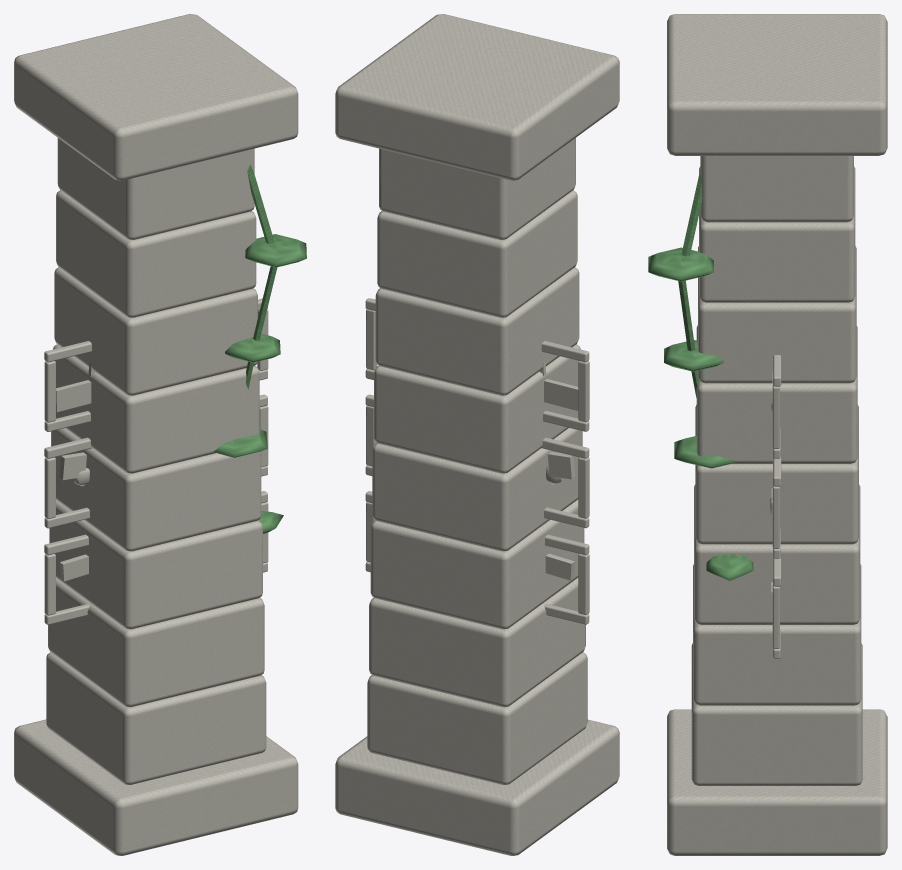
Rendered from carved-temple-pillar.glb.
3 views of the same model, side by side, from view 1: azimuth 30°, elevation 25°; view 2: azimuth 150°, elevation 25°; view 3: azimuth 270°, elevation 25° (orthographic). The views are drawn at different scales.
Visible parts, largest first — view 1: square-column; view 2: square-column; view 3: square-column.
Part boxes in pixels (x1,y1,x2,y2): square-column: (14, 14, 306, 855); square-column: (335, 14, 619, 855); square-column: (648, 14, 887, 855).
Bounding box in the file's own units: 0.9608 × 3.02 × 0.8669.
Materials: 2 (2 with a texture image).
